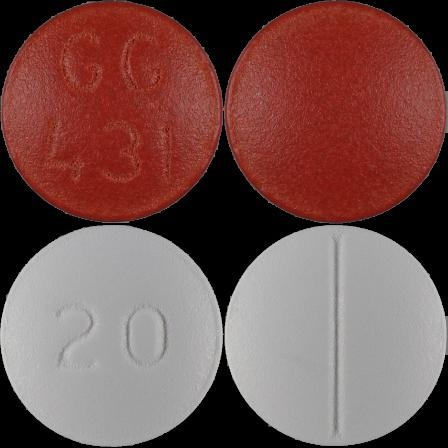64725-1488: (0, 0, 224, 224)
